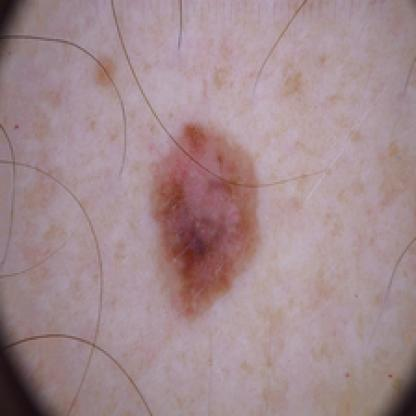Skin_Cancer-Malignant: (152, 119, 260, 315)
